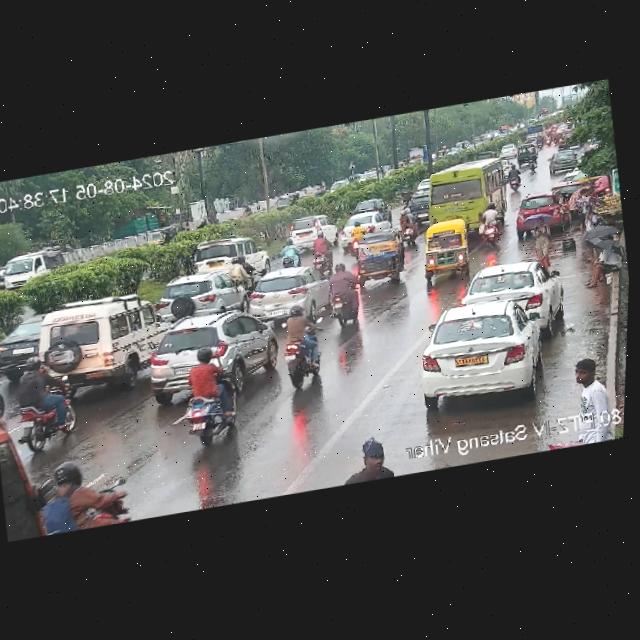bus: (417, 153, 522, 233)
car: (27, 281, 181, 391), (409, 293, 550, 408), (136, 303, 288, 405), (457, 255, 564, 327), (150, 263, 254, 323), (237, 262, 333, 323), (185, 232, 275, 287), (414, 218, 476, 282), (351, 227, 410, 289), (510, 187, 574, 240), (0, 245, 67, 292), (336, 208, 395, 253), (284, 213, 343, 254), (544, 147, 582, 179), (144, 224, 179, 245), (272, 191, 301, 212), (498, 140, 522, 158)
motorcycle: (22, 452, 130, 539), (7, 350, 83, 452), (271, 296, 332, 392), (179, 346, 239, 439), (319, 260, 362, 328), (305, 227, 335, 278), (474, 204, 507, 247), (395, 210, 423, 248), (276, 237, 303, 271), (345, 221, 371, 246), (523, 144, 542, 174), (506, 163, 521, 192), (536, 137, 546, 151)
person: (572, 223, 629, 293), (562, 353, 616, 415), (340, 431, 403, 484), (573, 193, 614, 267), (520, 210, 558, 272)
